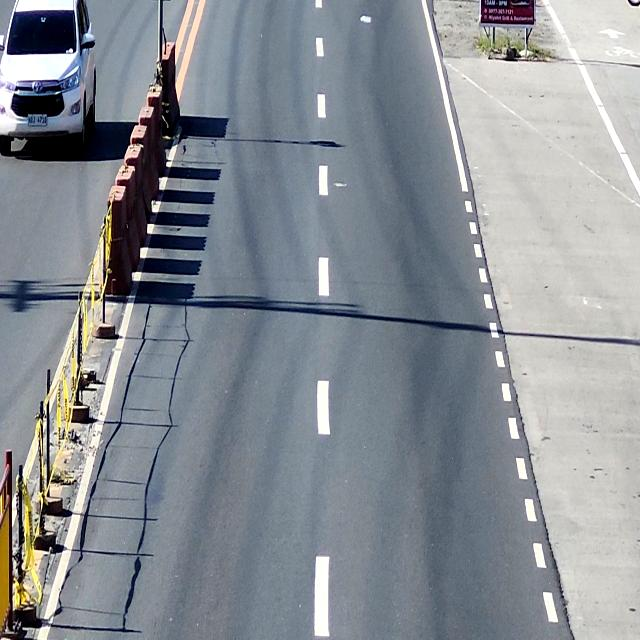Car: (0, 0, 94, 158)
License-Plate: (26, 111, 49, 129)
